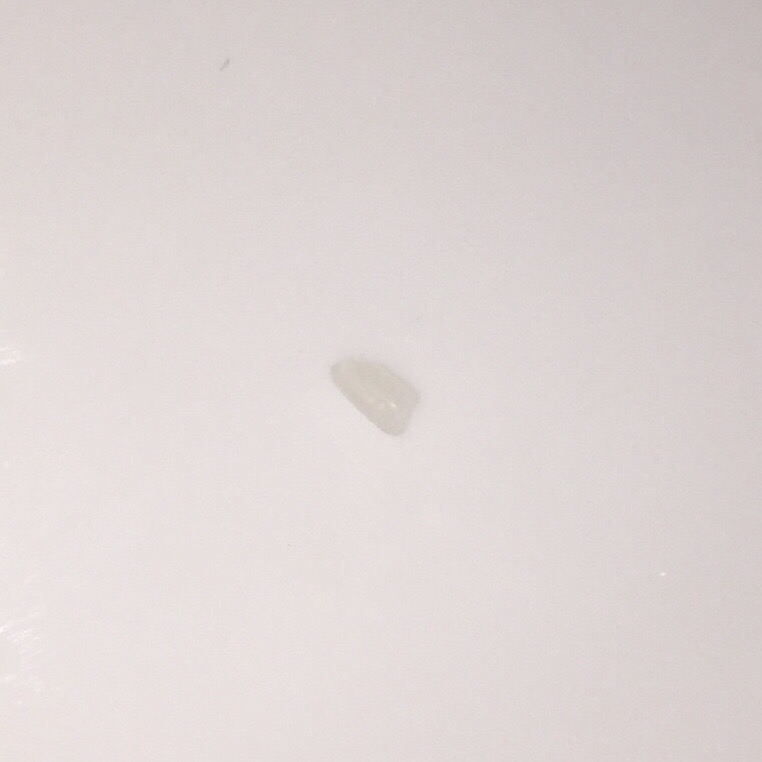Gao Tam: (322, 341, 420, 440)
